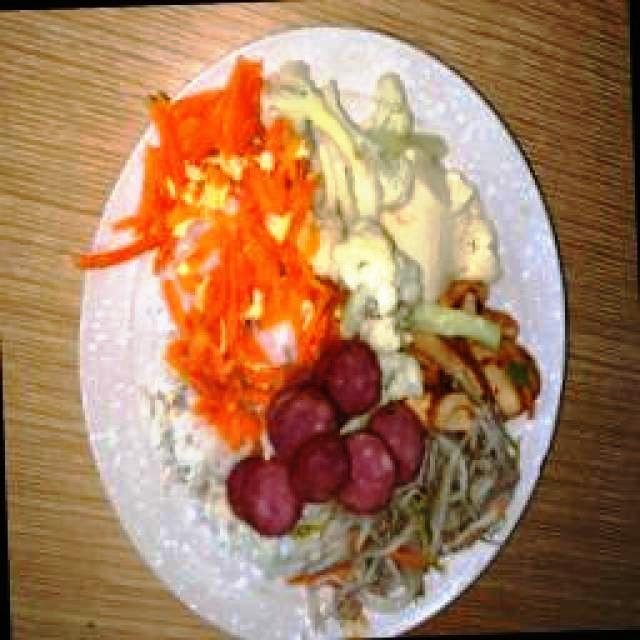carrot_eggs: (76, 54, 348, 454)
chinese_sausage: (224, 337, 427, 537)
